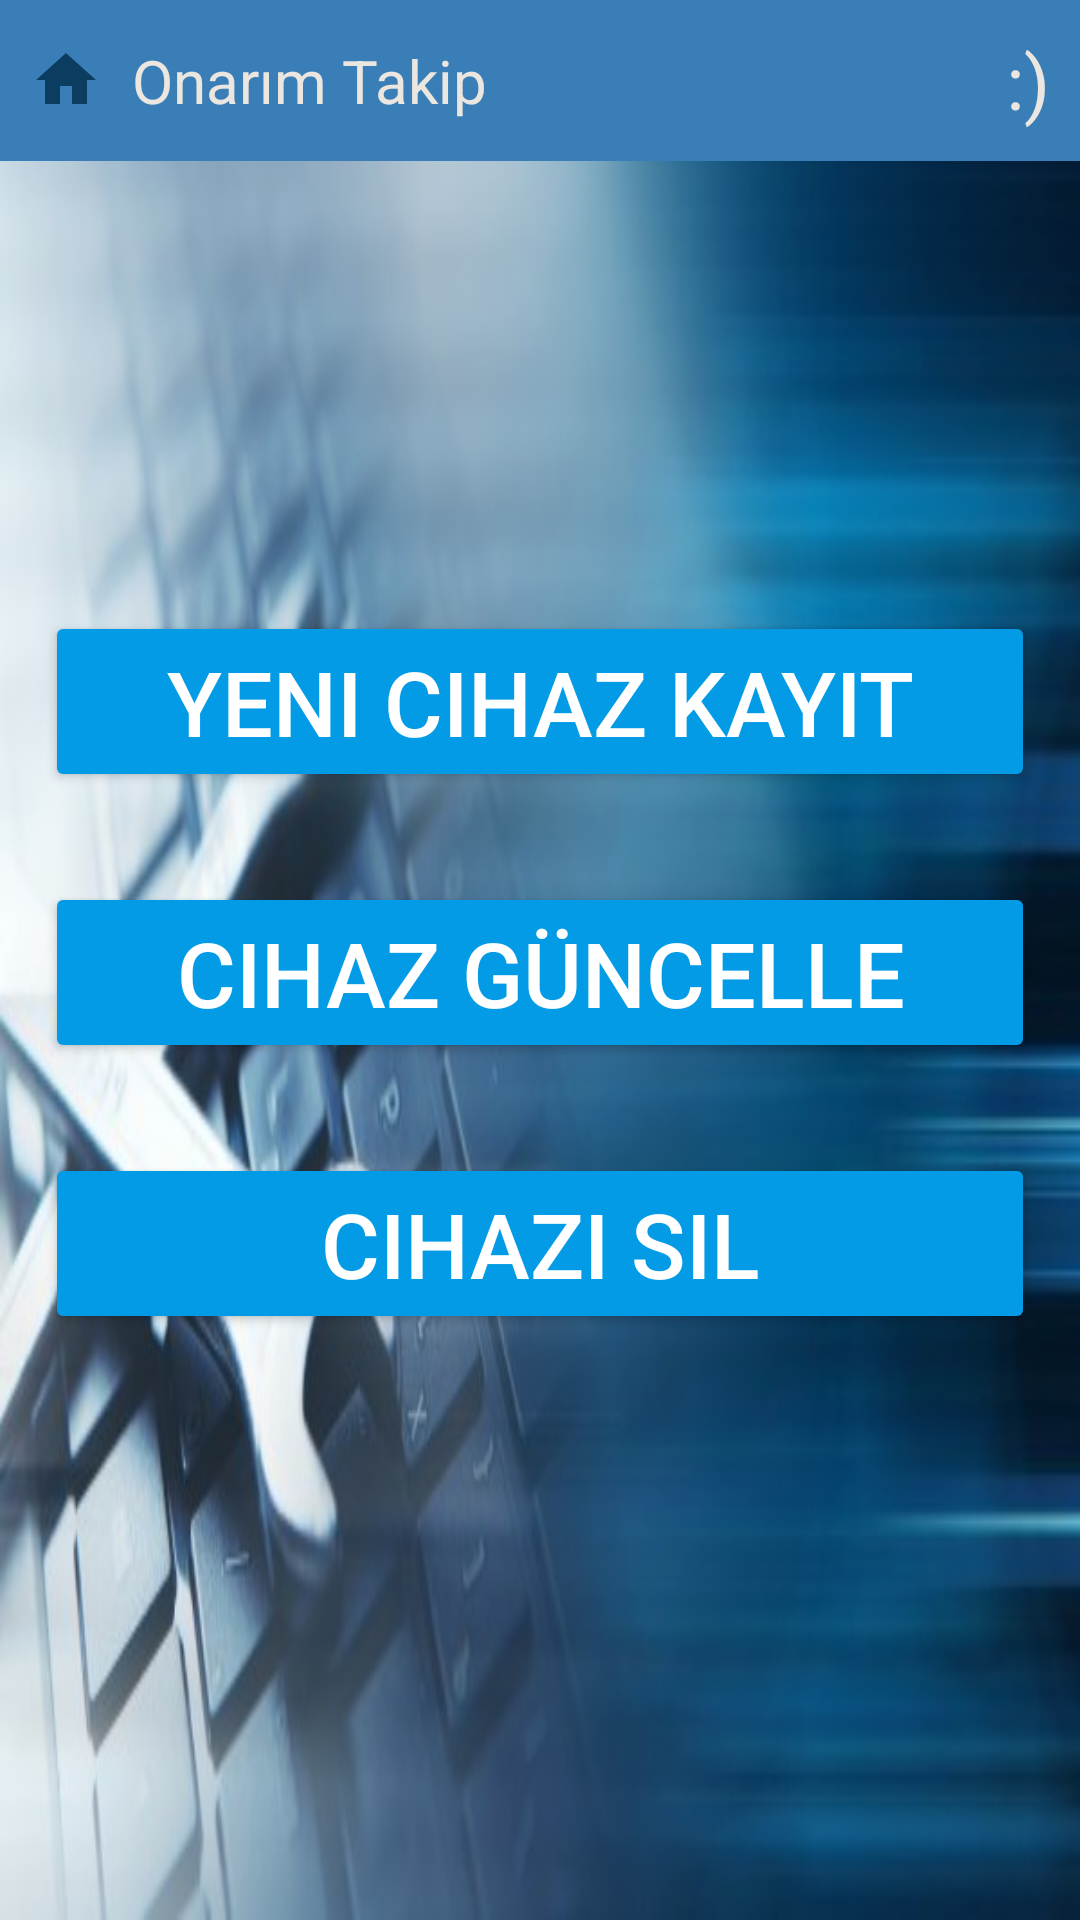

Screen size 1080 × 1920. Icon name, then its center in pixels as point (x, y):
home: point (66, 78)
